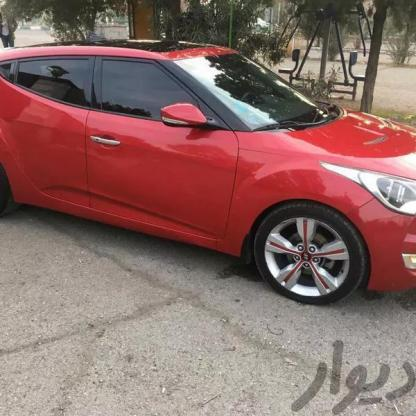Car: (0, 39, 416, 321)
